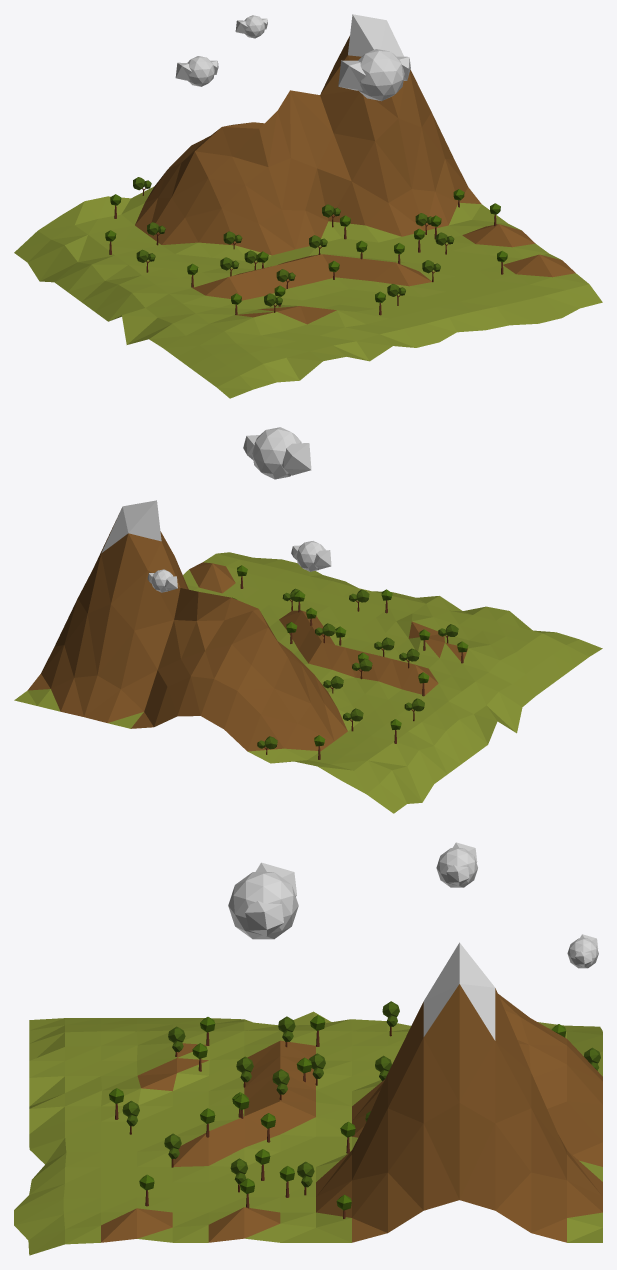
Rendered from terrain.glb.
The picture shows the model from 3 angles, top to bottom: view 1: azimuth 30°, elevation 25°; view 2: azimuth 150°, elevation 25°; view 3: azimuth 270°, elevation 25°; orthographic projection. The views are drawn at different scales.
Visible parts, largest first — view 1: Terreno, Icosphere.001, Icosphere.002, Icosphere.000; view 2: Terreno, Icosphere.001, Icosphere.002, Icosphere.000; view 3: Terreno, Icosphere.001, Icosphere.002, Icosphere.000.
Boxes of the visible parts, x1=… form: Terreno: x1=14, y1=14, x2=602, y2=398; Icosphere.001: x1=338, y1=49, x2=410, y2=101; Icosphere.002: x1=175, y1=56, x2=218, y2=86; Icosphere.000: x1=235, y1=15, x2=267, y2=38; Terreno: x1=14, y1=500, x2=602, y2=813; Icosphere.001: x1=243, y1=427, x2=311, y2=479; Icosphere.002: x1=291, y1=541, x2=331, y2=571; Icosphere.000: x1=147, y1=569, x2=177, y2=592; Terreno: x1=14, y1=942, x2=602, y2=1255; Icosphere.001: x1=228, y1=862, x2=298, y2=939; Icosphere.002: x1=436, y1=842, x2=477, y2=887; Icosphere.000: x1=567, y1=934, x2=598, y2=968.
Bounding box in the file's own units: 57.79 × 35.13 × 57.98.
